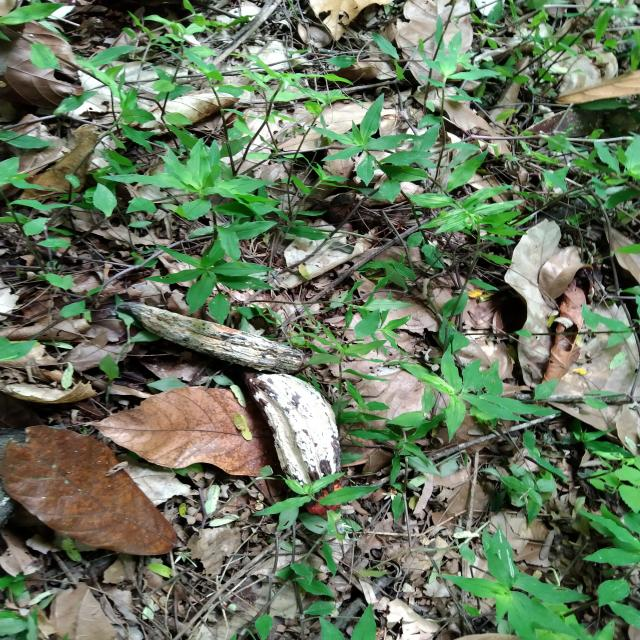Monilia: (237, 364, 345, 493), (128, 306, 313, 372)
